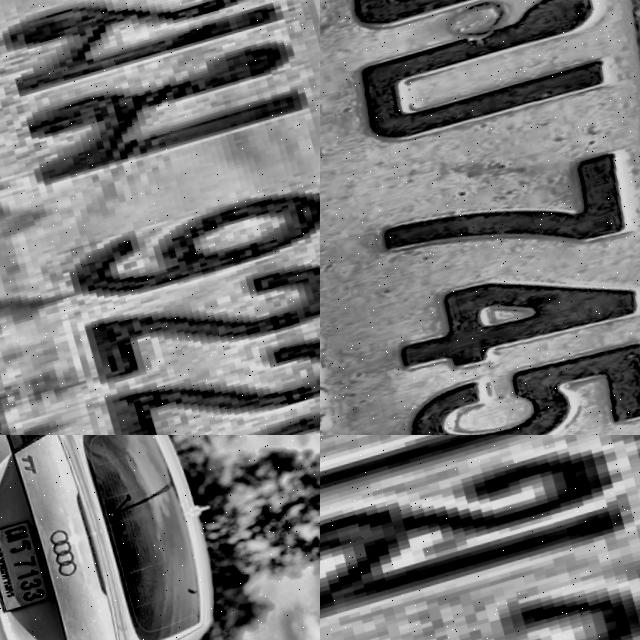license-plate: (0, 0, 320, 435), (320, 0, 640, 435), (320, 435, 640, 640), (0, 521, 49, 622)
